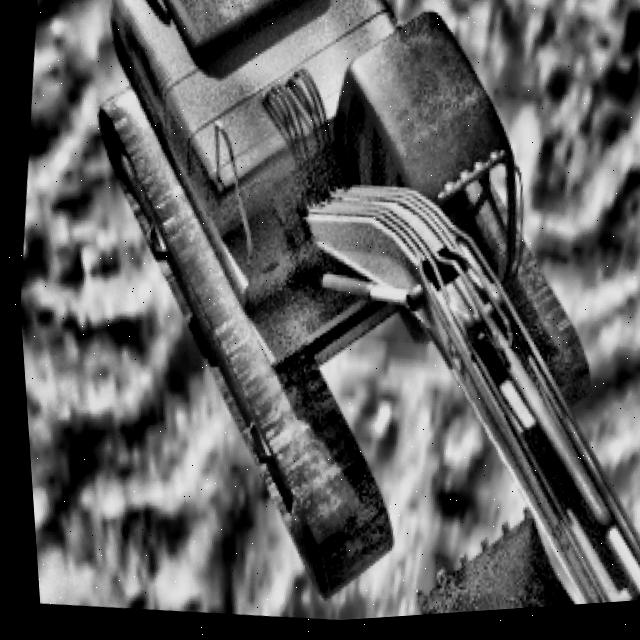excavator: (27, 0, 640, 639)
